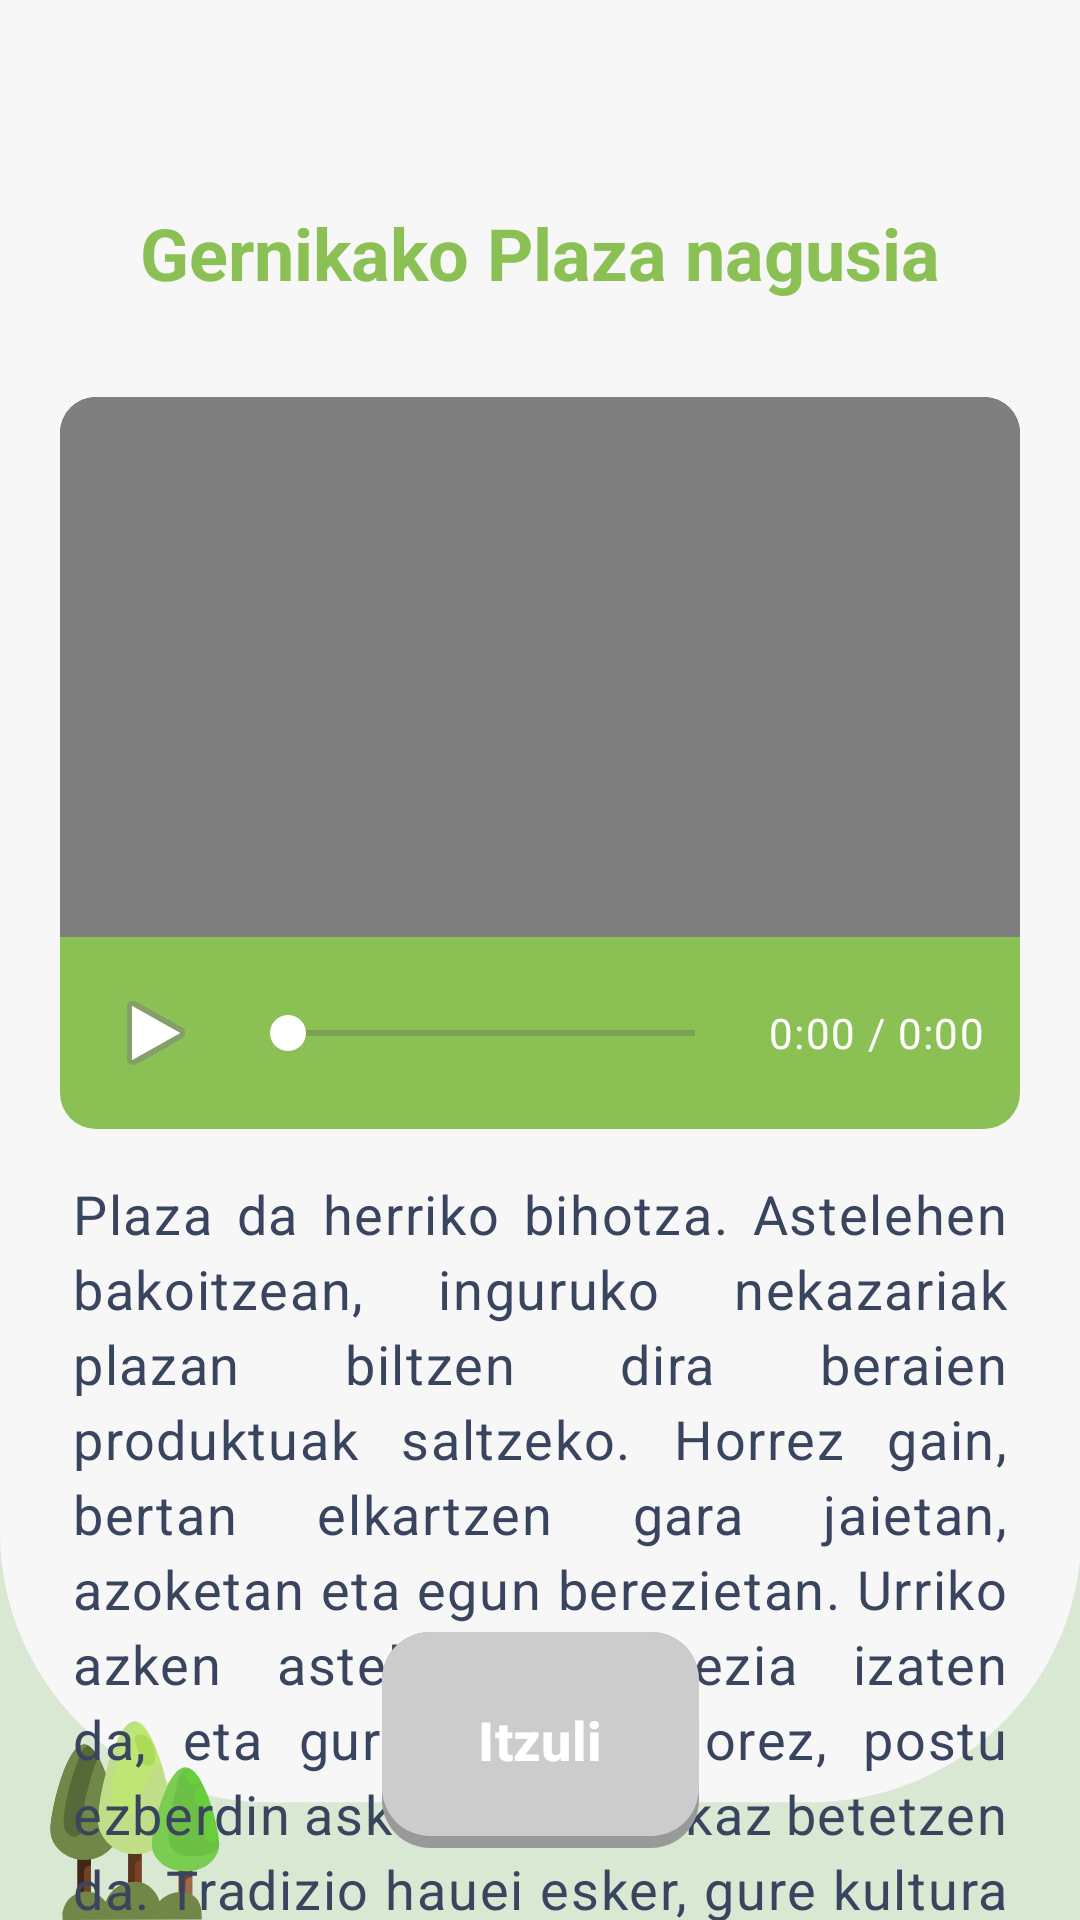

Point at icon controls on the screen. Image size 1080×1920, points as (x,y).
Erreproduzitu/Gelditu: (156,1033)
